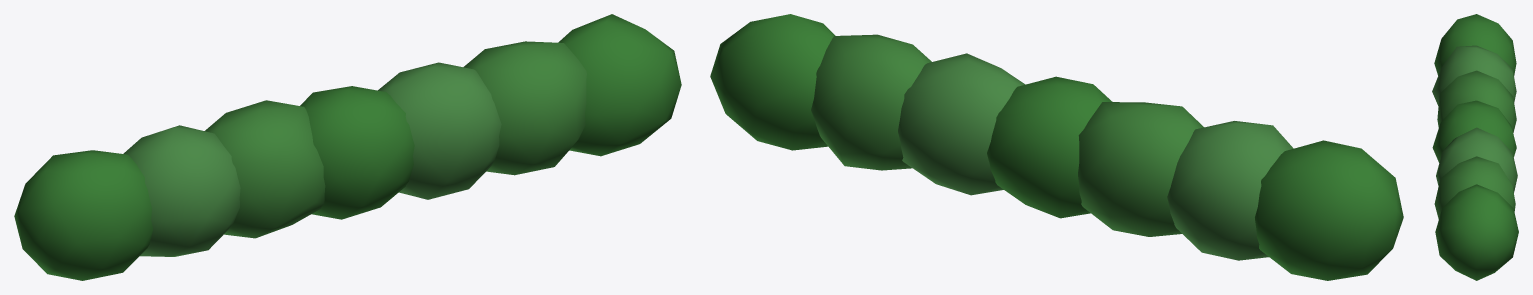
Rendered from hedge_long.fbx.
The picture shows the model from 3 angles, left to right: view 1: azimuth 30°, elevation 25°; view 2: azimuth 150°, elevation 25°; view 3: azimuth 270°, elevation 25°; orthographic projection. The views are drawn at different scales.
Parts seen in each view (by area): view 1: hedge_long_leaves; view 2: hedge_long_leaves; view 3: hedge_long_leaves.
Part boxes in pixels (left/top/right/bottom): hedge_long_leaves: left=14, top=14, right=681, bottom=280; hedge_long_leaves: left=710, top=14, right=1403, bottom=280; hedge_long_leaves: left=1432, top=14, right=1518, bottom=280.
Size of the model in its own units: 2.27 by 0.4313 by 0.3921.
